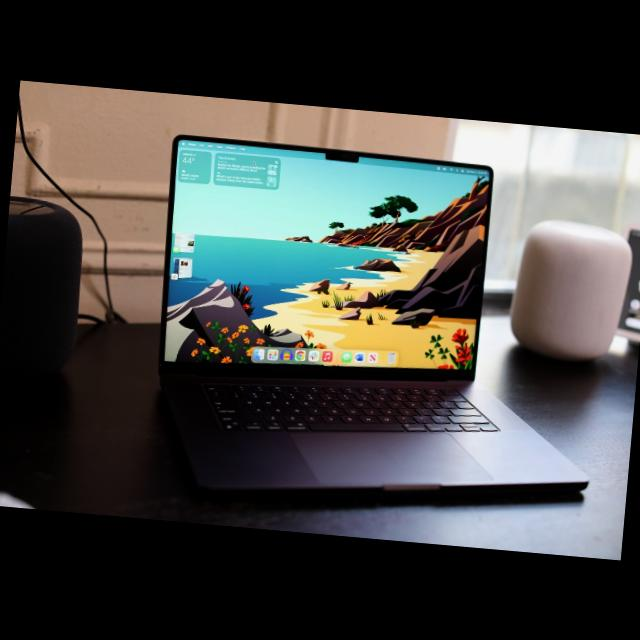laptop: (123, 124, 564, 526)
